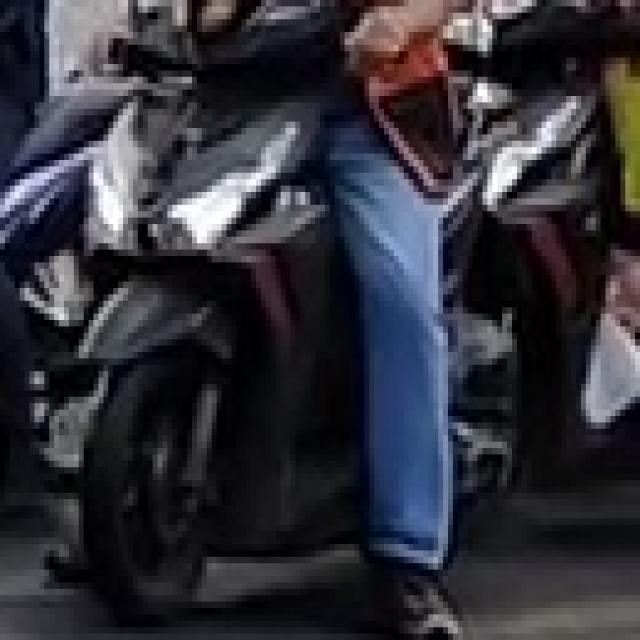tyre: (74, 352, 221, 621)
